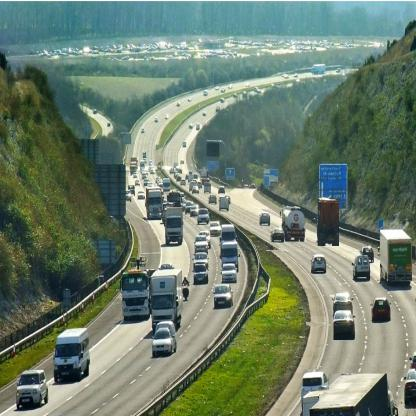car: (54, 329, 90, 383), (18, 371, 50, 409), (154, 323, 179, 354), (334, 311, 358, 342), (303, 371, 330, 394), (221, 243, 239, 270), (371, 299, 392, 322), (334, 292, 355, 312), (216, 286, 235, 308), (405, 370, 416, 406), (355, 259, 372, 281), (223, 262, 238, 285), (195, 265, 210, 288), (312, 254, 327, 274), (223, 225, 236, 246), (261, 212, 273, 229), (211, 221, 223, 237), (271, 229, 286, 241), (220, 198, 232, 213), (198, 210, 210, 224), (197, 238, 208, 252), (183, 202, 192, 218), (363, 246, 375, 257), (196, 254, 208, 264), (191, 206, 200, 218), (210, 195, 218, 206), (206, 184, 212, 196), (194, 186, 201, 195), (127, 192, 132, 203), (220, 186, 226, 195), (139, 193, 145, 201), (136, 181, 142, 187), (182, 182, 188, 187)
container: (147, 185, 164, 222)
motorbike: (183, 279, 190, 301)
truck: (320, 375, 398, 416), (381, 230, 413, 283), (153, 272, 183, 325), (122, 271, 151, 322), (318, 202, 340, 248), (286, 207, 307, 243), (167, 209, 184, 244), (164, 180, 172, 192)
